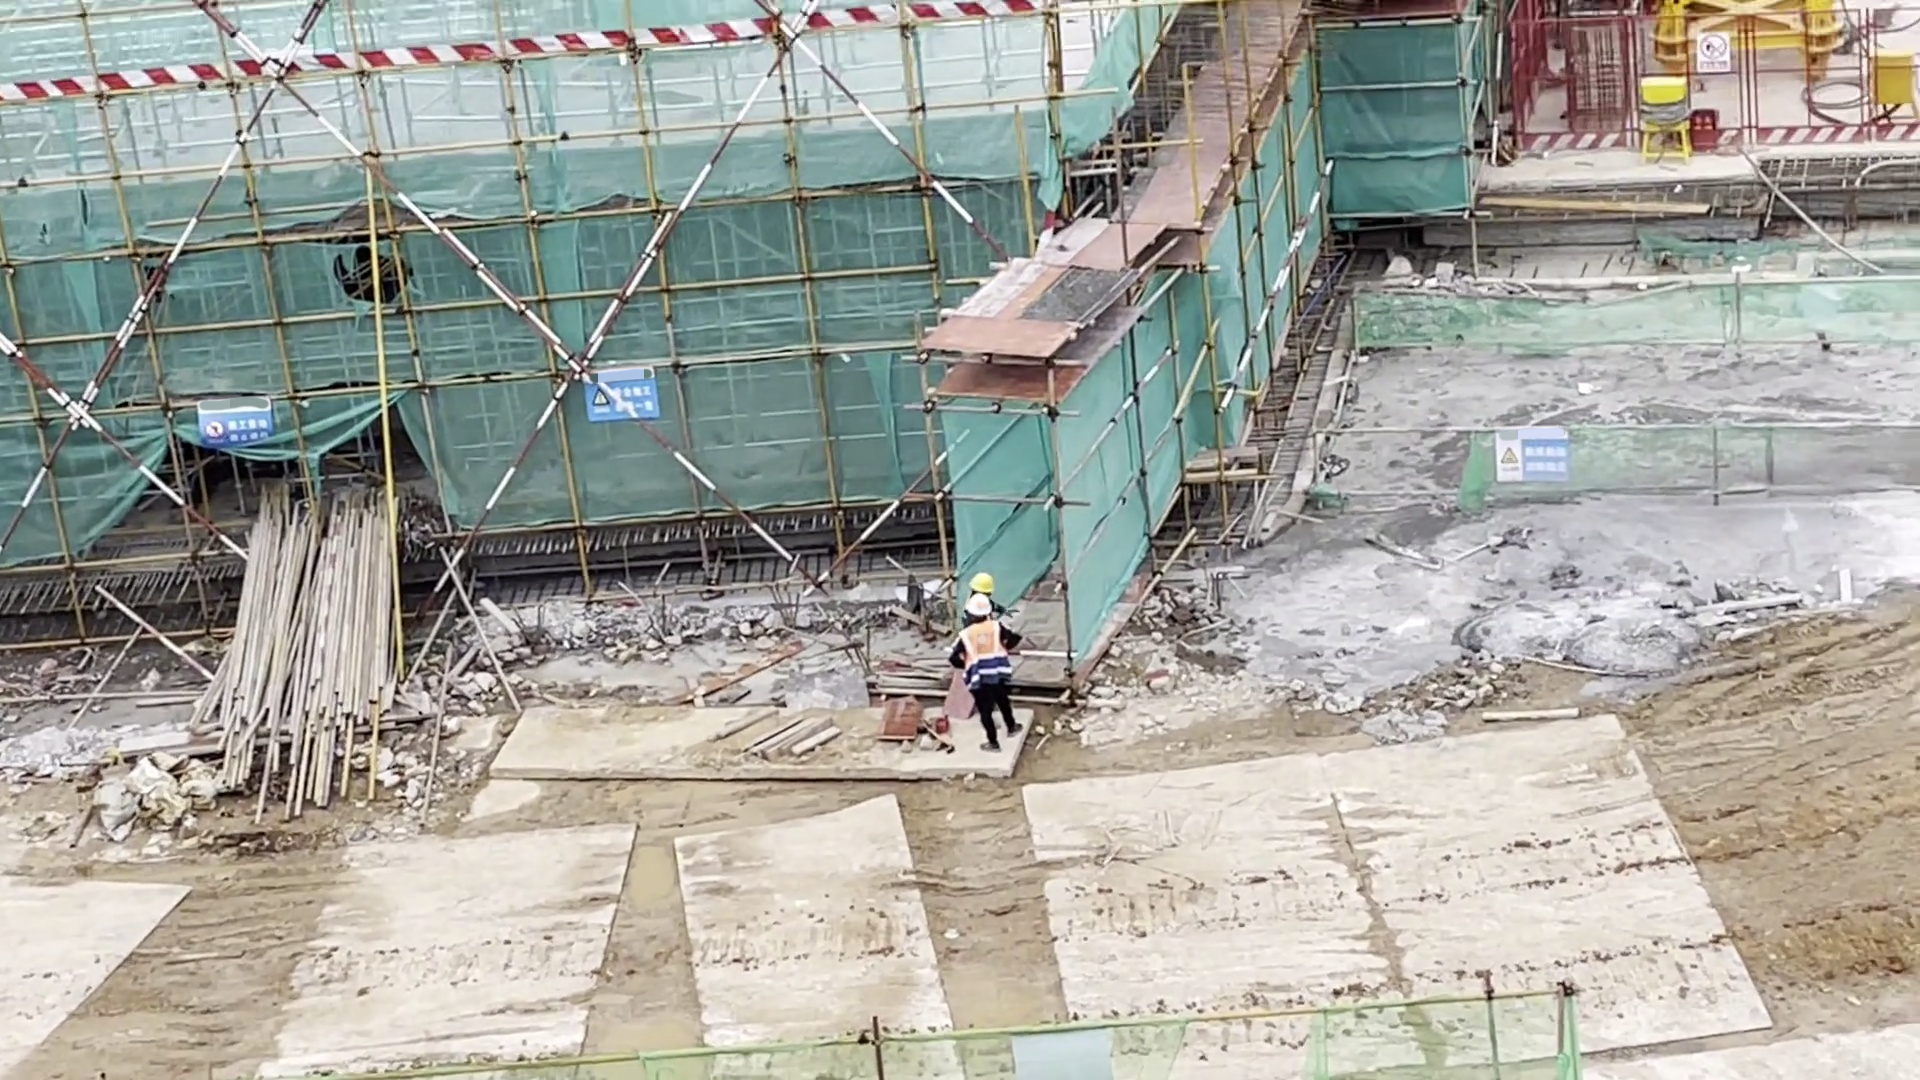ebox: (1633, 67, 1693, 165), (1865, 48, 1913, 105)
helmet: (966, 568, 998, 595), (966, 596, 994, 620)
person: (953, 573, 1022, 752)
vest: (961, 624, 1005, 679)
wood: (191, 488, 397, 809)
